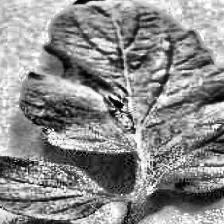disease: (0, 0, 224, 224)
